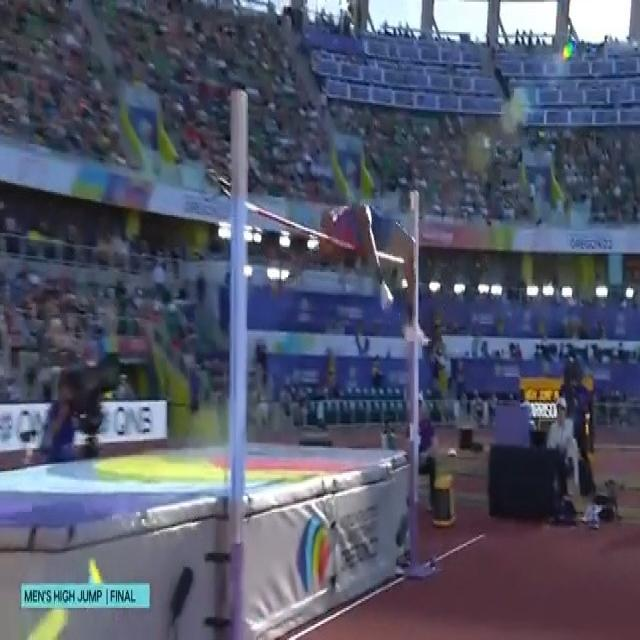land: (304, 200, 431, 344)
